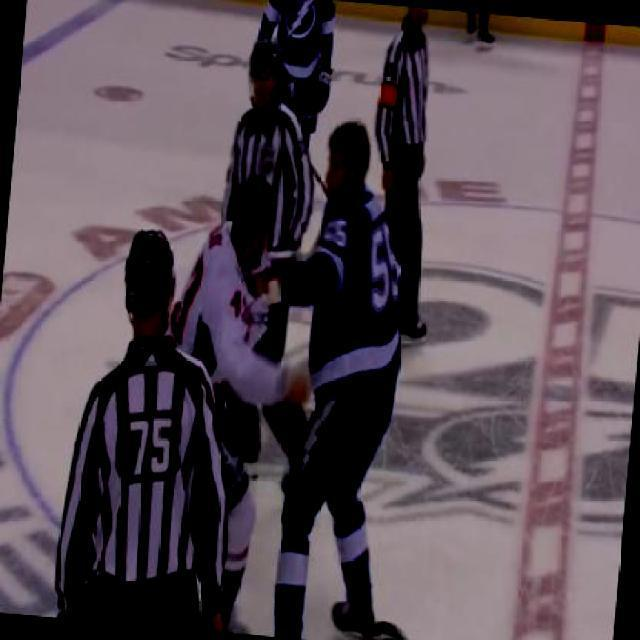fight: (142, 104, 424, 638)
non-fight: (352, 4, 456, 340)
